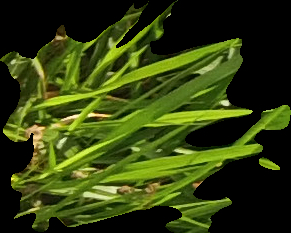grass: (1, 1, 289, 232)
